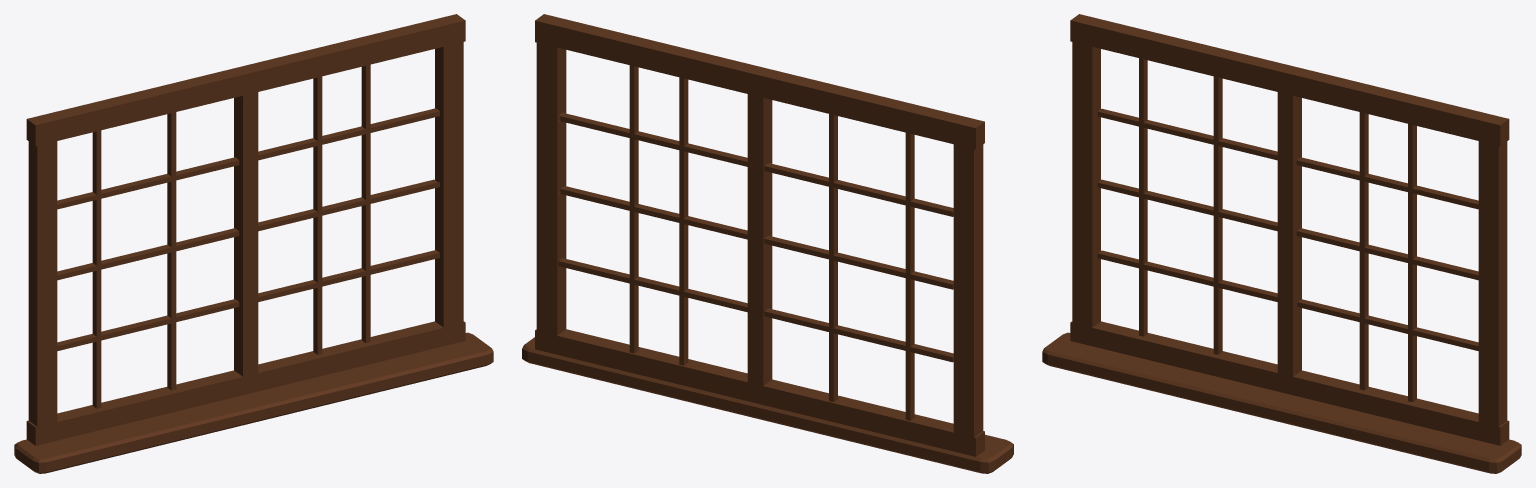
File: ventanamarco.glb
3 views of the same model, side by side, from view 1: azimuth 30°, elevation 25°; view 2: azimuth 150°, elevation 25°; view 3: azimuth 330°, elevation 25° (orthographic). The views are drawn at different scales.
Visible parts, largest first — view 1: Ventana parte 4.001; view 2: Ventana parte 4.001; view 3: Ventana parte 4.001.
Boxes of the visible parts, bbox=[...] form: Ventana parte 4.001: bbox=[14, 14, 493, 473]; Ventana parte 4.001: bbox=[522, 14, 1013, 473]; Ventana parte 4.001: bbox=[1042, 14, 1521, 473].
Size of the model in its own units: 8.51 by 5.93 by 0.8725.
